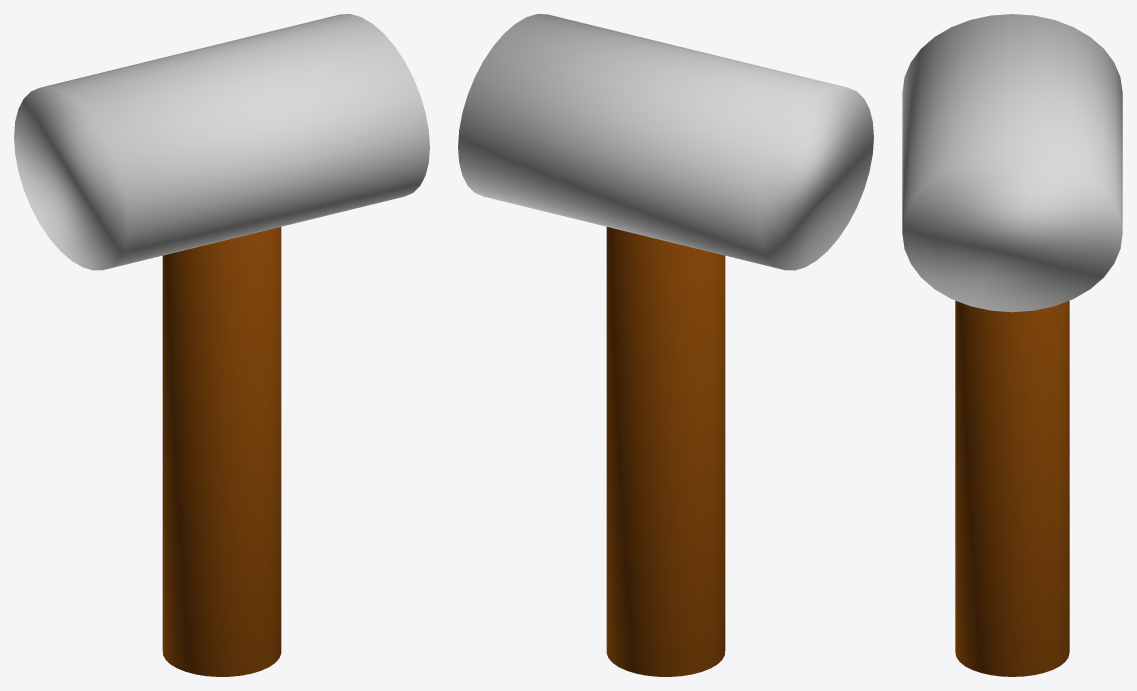
The model's file is hammer.dae.
3 views of the same model, side by side, from view 1: azimuth 30°, elevation 25°; view 2: azimuth 150°, elevation 25°; view 3: azimuth 270°, elevation 25° (orthographic). The views are drawn at different scales.
Parts seen in each view (by area): view 1: Cylinder.001, Cylinder; view 2: Cylinder.001, Cylinder; view 3: Cylinder.001, Cylinder.
Boxes of the visible parts, x1=… form: Cylinder.001: x1=14, y1=14, x2=429, y2=270; Cylinder: x1=162, y1=227, x2=281, y2=676; Cylinder.001: x1=458, y1=14, x2=873, y2=270; Cylinder: x1=606, y1=227, x2=725, y2=676; Cylinder.001: x1=902, y1=14, x2=1122, y2=312; Cylinder: x1=955, y1=300, x2=1069, y2=676.
Bounding box in the file's own units: 1.17 × 0.7719 × 2.2.
